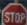Stop sign: (0, 0, 26, 24)
